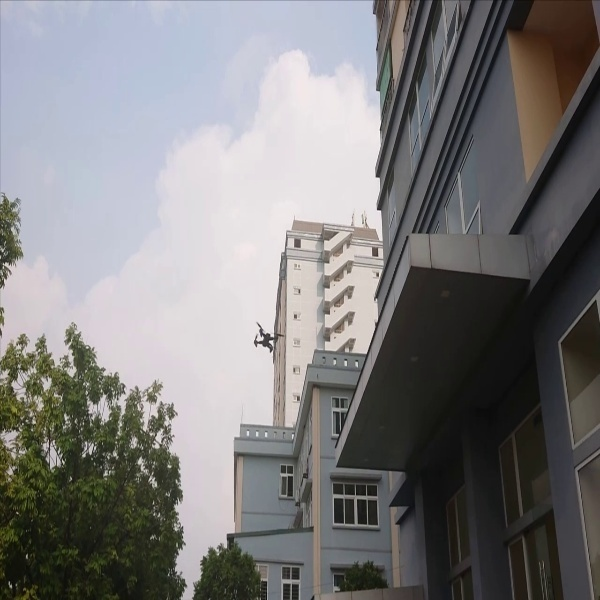drone: (246, 316, 285, 360)
